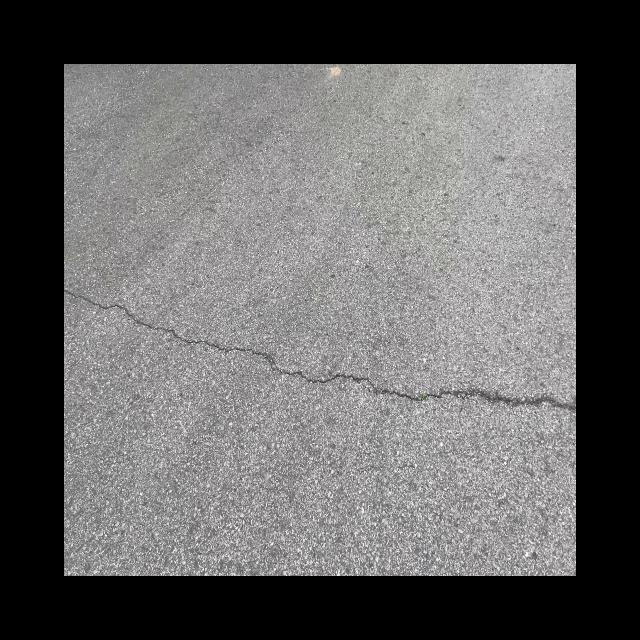retak_memanjang: (64, 274, 576, 439)
